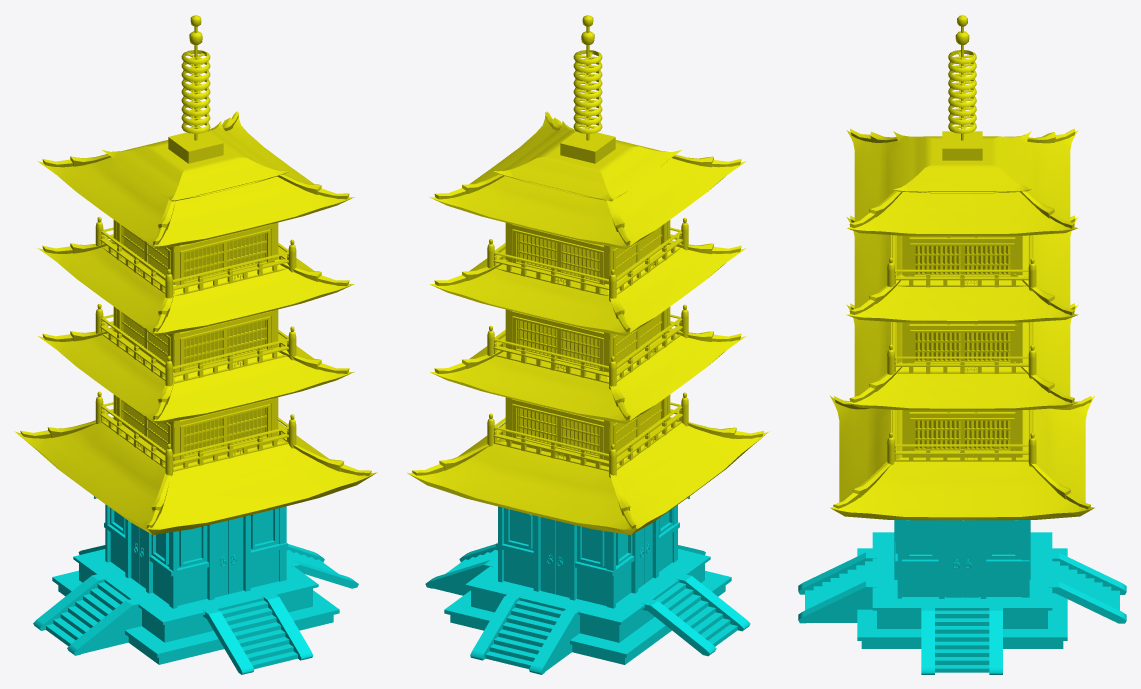
Rendered from lp_pagoda_small.fbx.
3 renders of one model, left to right at view 1: azimuth 30°, elevation 25°; view 2: azimuth 150°, elevation 25°; view 3: azimuth 270°, elevation 25°, orthographic.
Parts seen in each view (by area): view 1: PAGODA_short; view 2: PAGODA_short; view 3: PAGODA_short.
Part boxes in pixels (left/top/right/bottom): PAGODA_short: left=14, top=15, right=377, bottom=674; PAGODA_short: left=407, top=15, right=769, bottom=674; PAGODA_short: left=798, top=14, right=1126, bottom=674.
Size of the model in its own units: 25.45 by 50.62 by 25.45.
